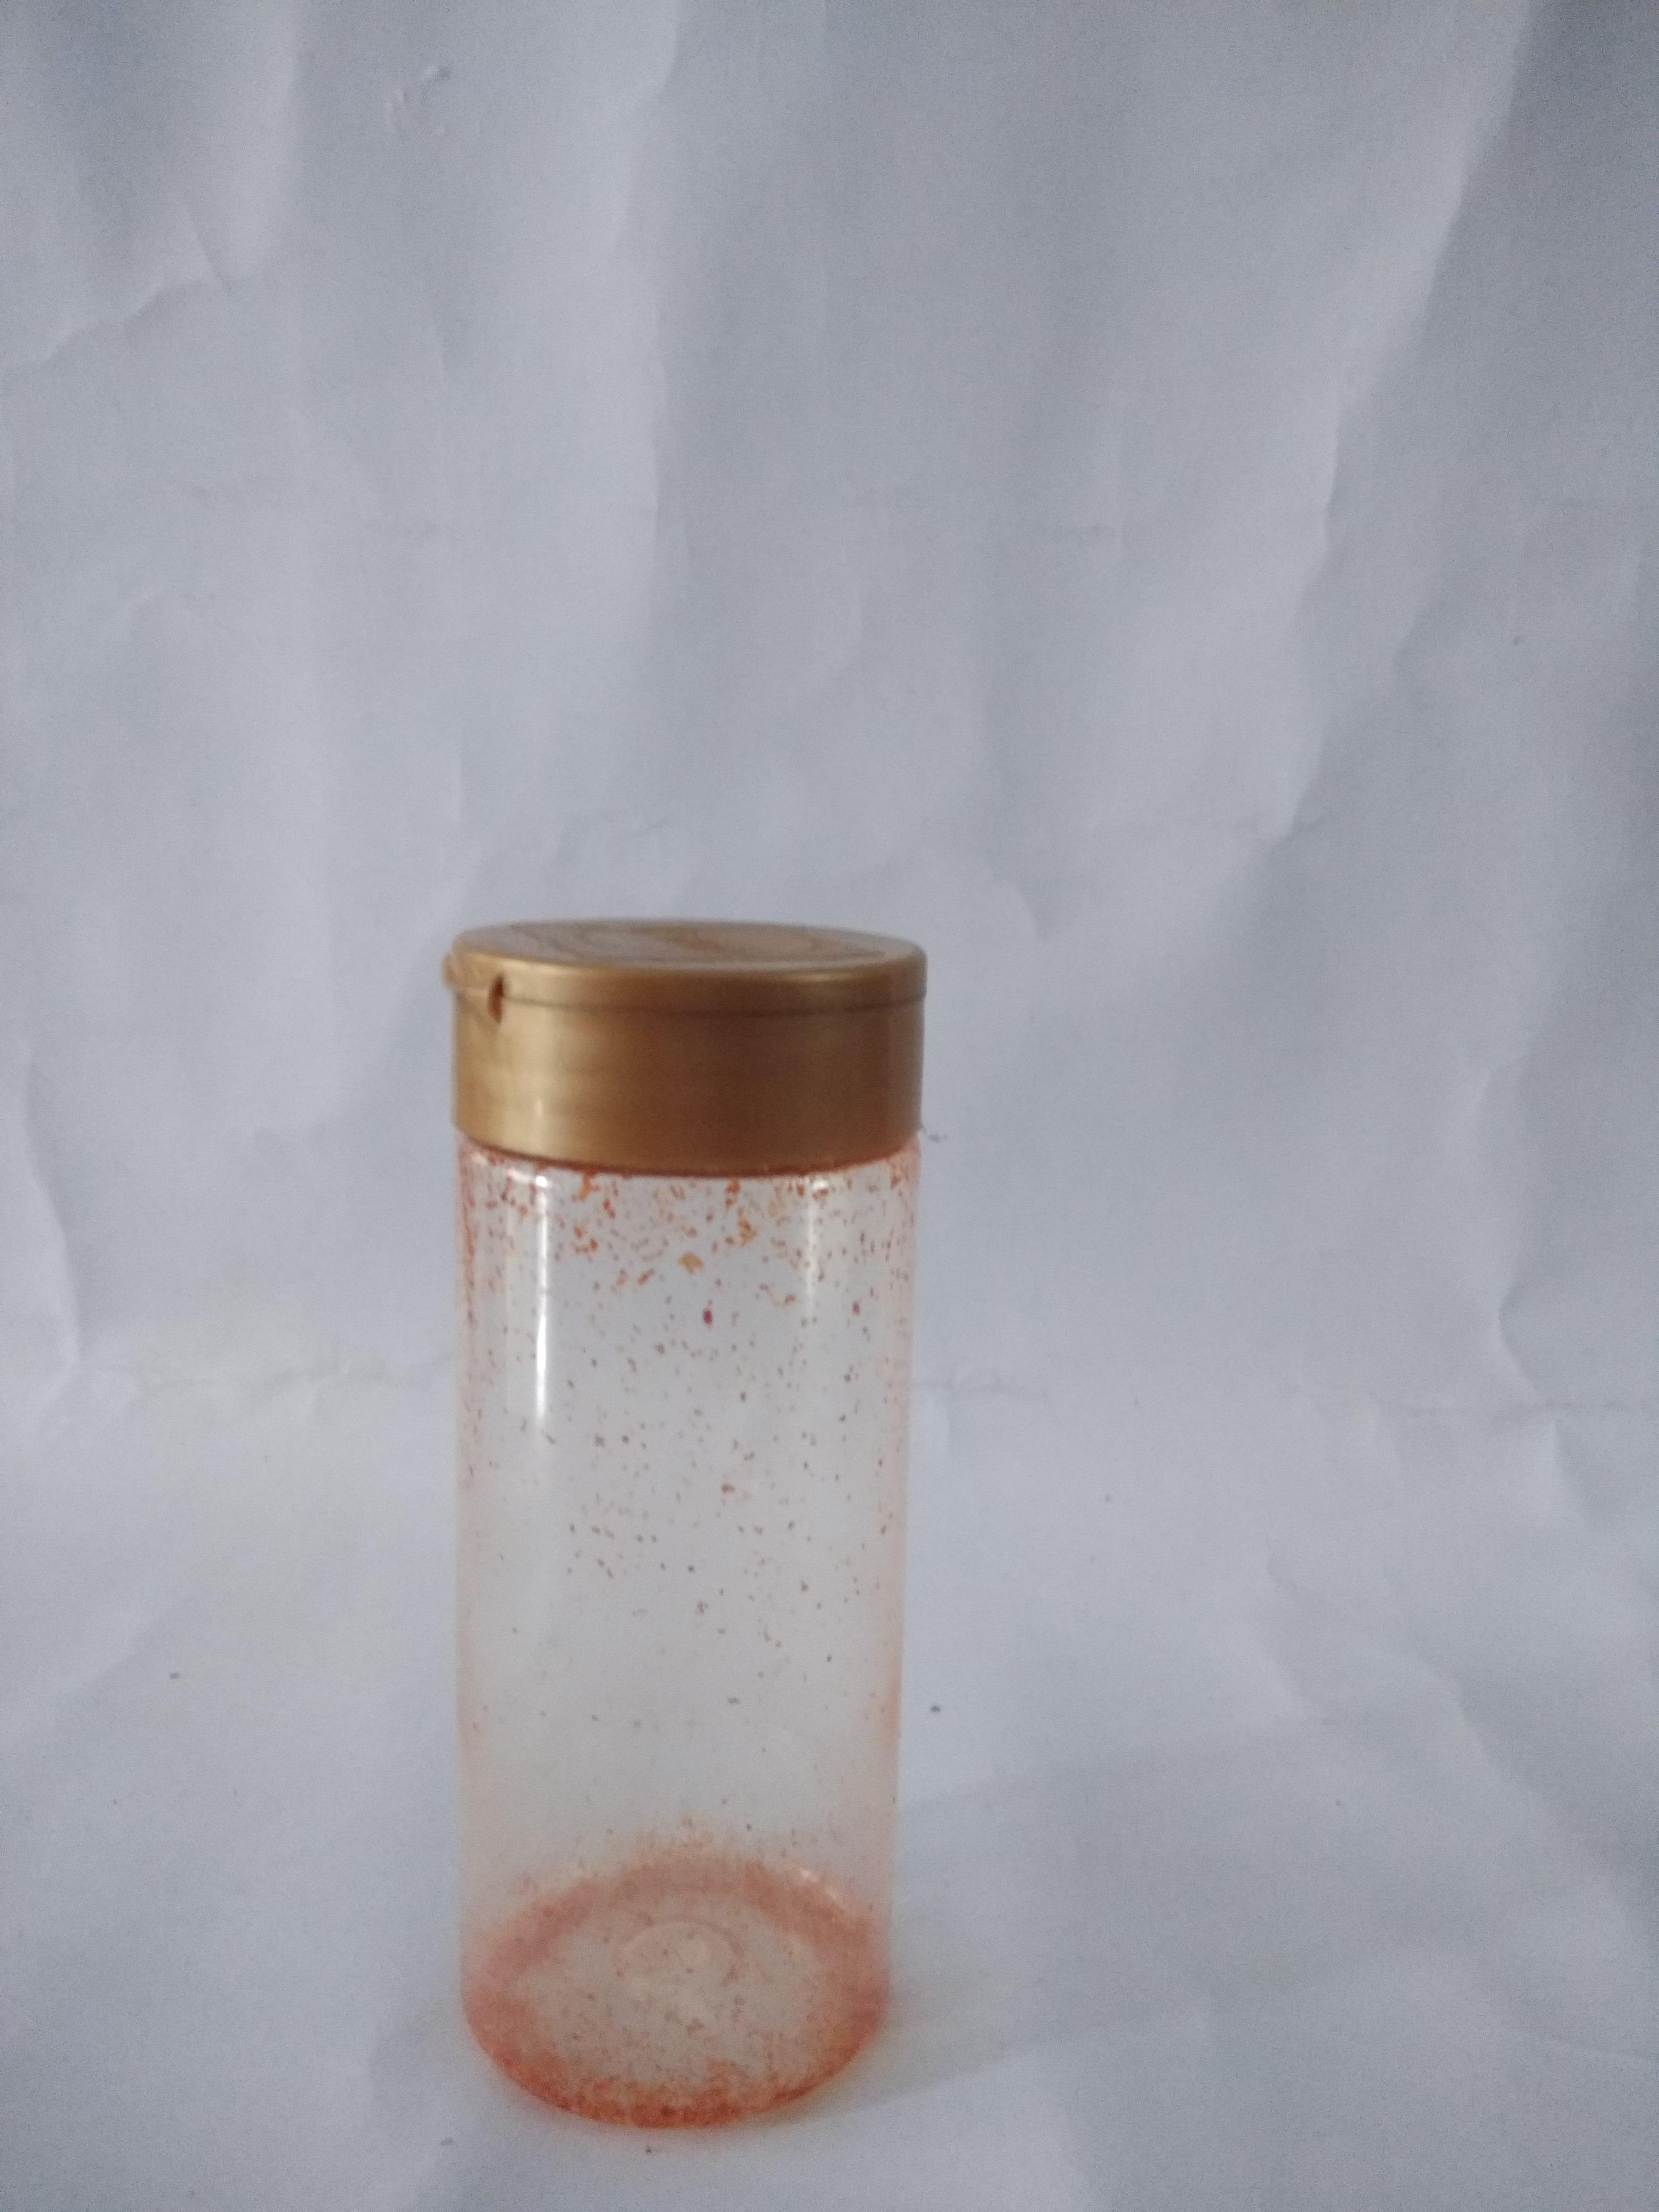HDPE: (437, 907, 939, 1170)
PETE: (448, 1151, 925, 2125)
